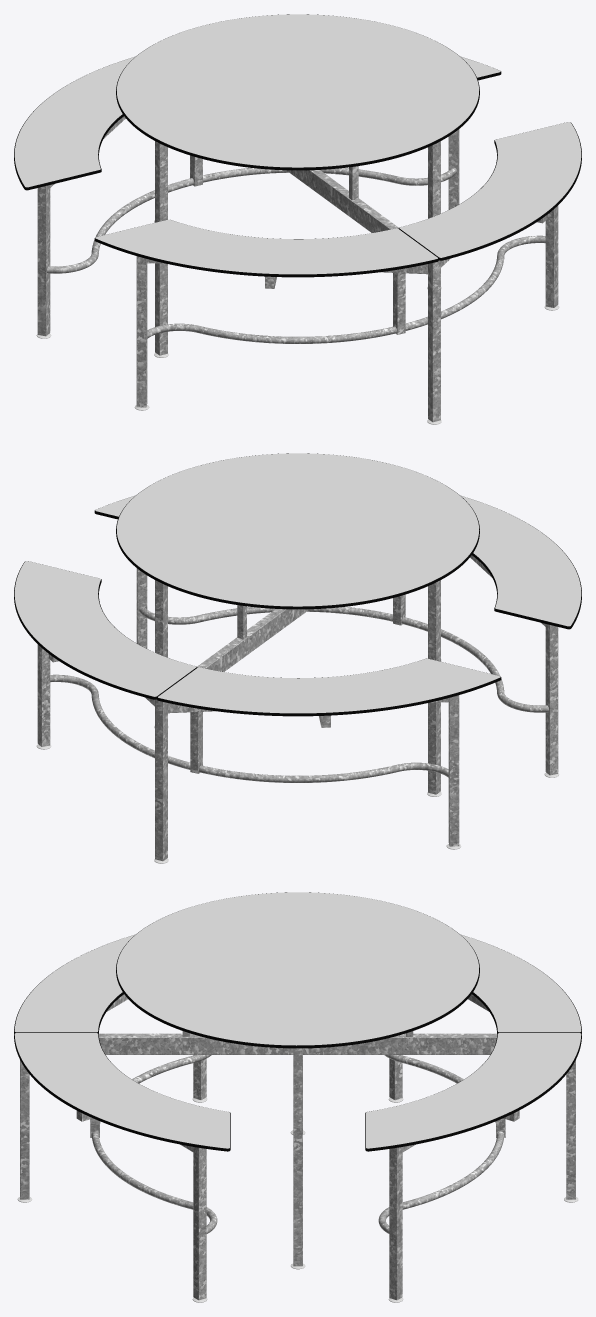
The model's file is kreis-team-105.glb.
The picture shows the model from 3 angles, top to bottom: view 1: azimuth 30°, elevation 25°; view 2: azimuth 150°, elevation 25°; view 3: azimuth 270°, elevation 25°; orthographic projection.
Parts seen in each view (by area): view 1: Tischplatte, Sitzplatte, Gestell, Solid.030, Solid.032, Solid.031, Solid.035; view 2: Tischplatte, Sitzplatte, Gestell, Solid.030, Solid.035, Solid.036, Solid.032; view 3: Tischplatte, Sitzplatte, Gestell, Solid.030, Solid.036, Solid.031.
Part boxes in pixels (x1=…): Tischplatte: x1=116, y1=14, x2=479, y2=167; Sitzplatte: x1=14, y1=56, x2=581, y2=274; Gestell: x1=37, y1=116, x2=558, y2=422; Solid.030: x1=116, y1=14, x2=479, y2=170; Solid.032: x1=94, y1=227, x2=438, y2=277; Solid.031: x1=398, y1=122, x2=581, y2=260; Solid.035: x1=14, y1=65, x2=123, y2=190; Tischplatte: x1=117, y1=453, x2=479, y2=606; Sitzplatte: x1=14, y1=496, x2=581, y2=713; Gestell: x1=37, y1=555, x2=558, y2=861; Solid.030: x1=116, y1=453, x2=479, y2=609; Solid.035: x1=157, y1=658, x2=501, y2=716; Solid.036: x1=14, y1=561, x2=197, y2=699; Solid.032: x1=472, y1=508, x2=581, y2=629; Tischplatte: x1=116, y1=892, x2=478, y2=1045; Sitzplatte: x1=14, y1=935, x2=581, y2=1148; Gestell: x1=20, y1=994, x2=575, y2=1300; Solid.030: x1=116, y1=892, x2=479, y2=1048; Solid.036: x1=365, y1=1033, x2=581, y2=1151; Solid.031: x1=14, y1=1033, x2=230, y2=1151.
Size of the model in its own units: 2.27 by 1.05 by 2.34.
3 materials, 1 textured.
